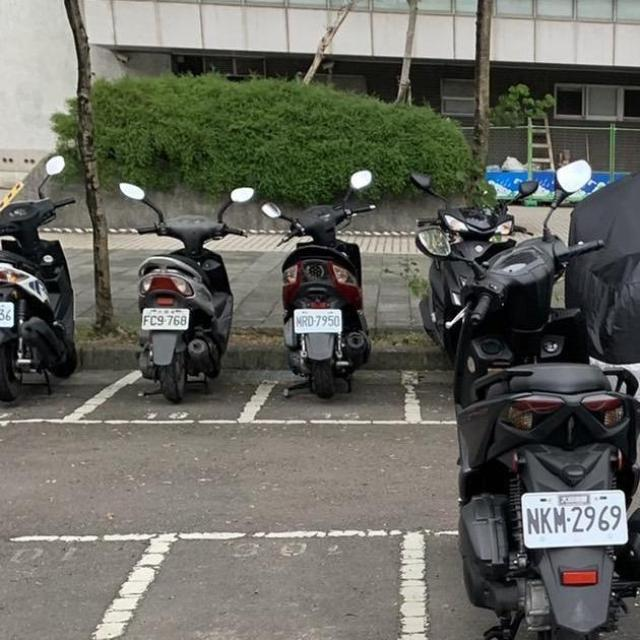W: (513, 482, 636, 554), (284, 303, 350, 339), (135, 302, 195, 335), (0, 297, 19, 332)
